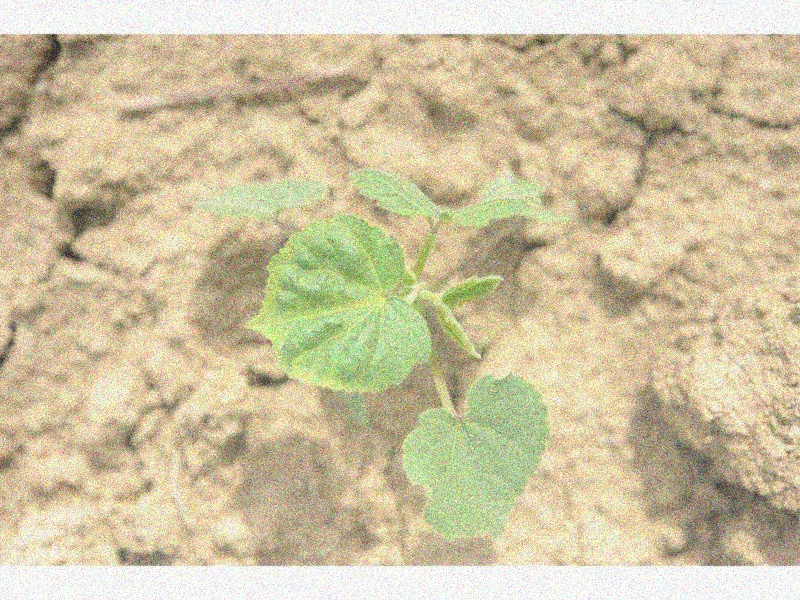velvet: (198, 167, 562, 543)
